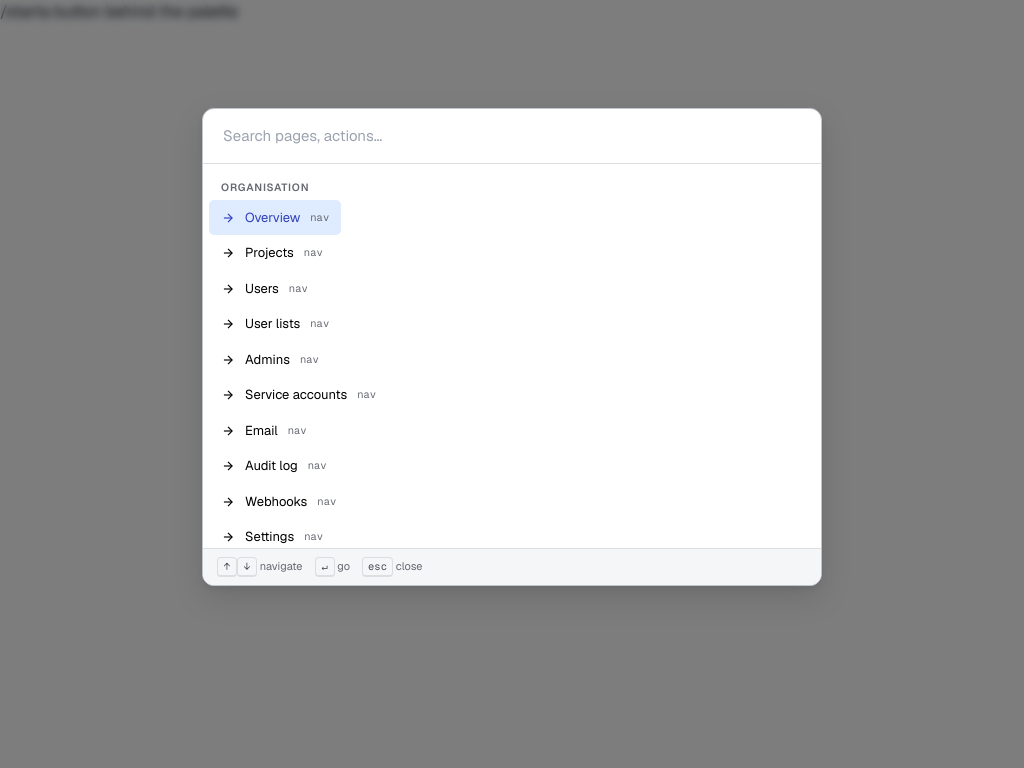
Test: filtering › says so when nothing matches
Type "nothing here" into the dropdown at (512, 136), box [203,108,821,164]
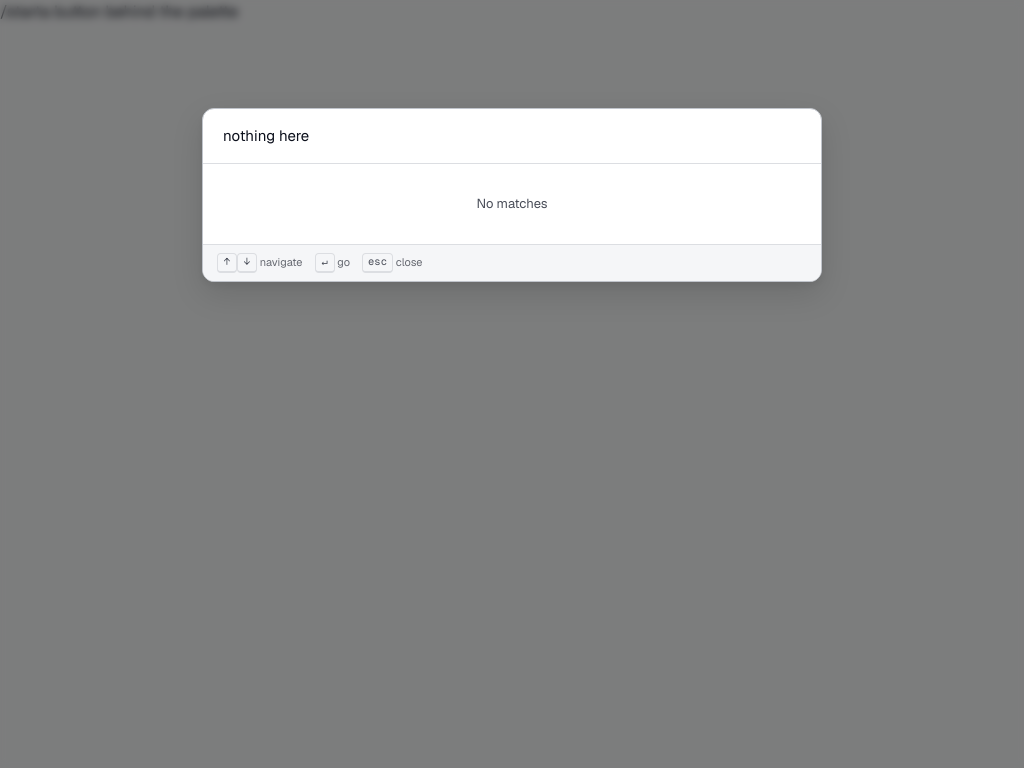
Result: the text "No matches" is shown at [476,195,548,212]
Result: no options are shown
